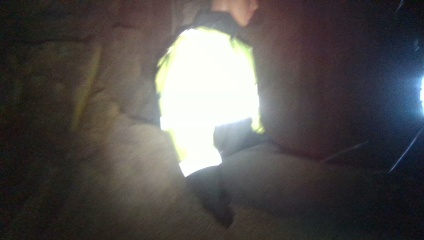manikin: (154, 0, 392, 239)
